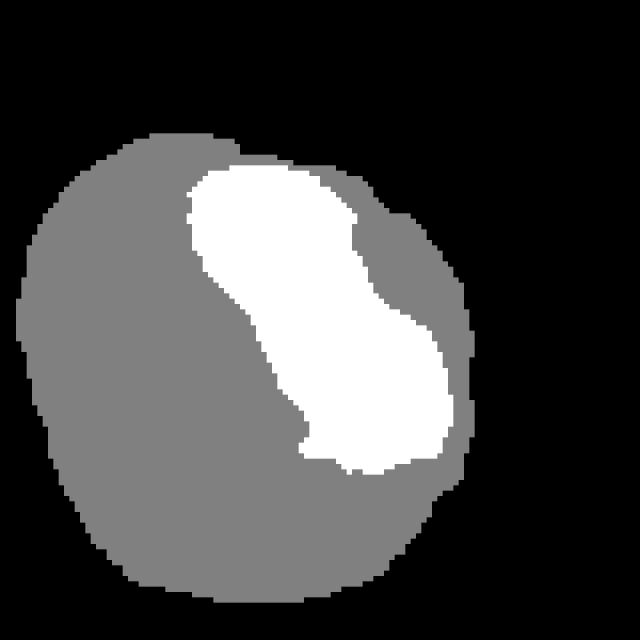WBC: (0, 117, 491, 640)
